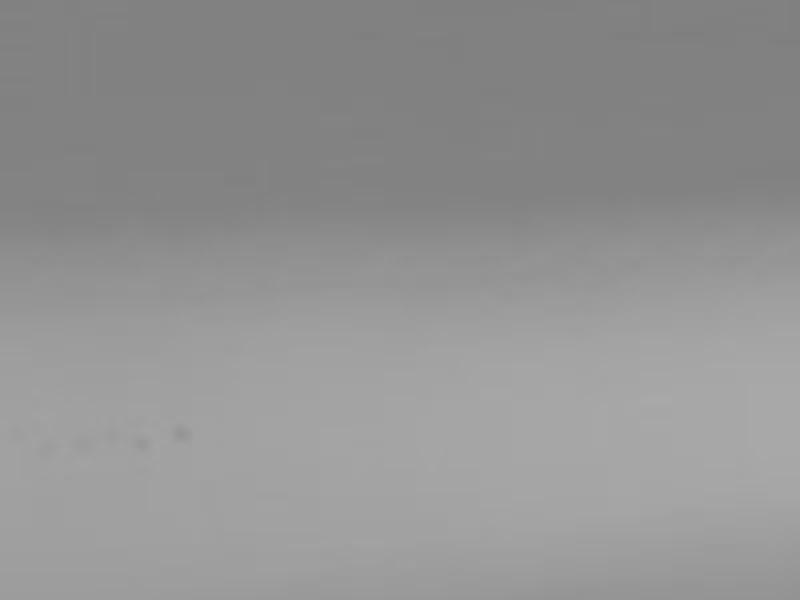defect: (171, 418, 198, 443), (68, 427, 94, 450), (132, 437, 154, 453)
